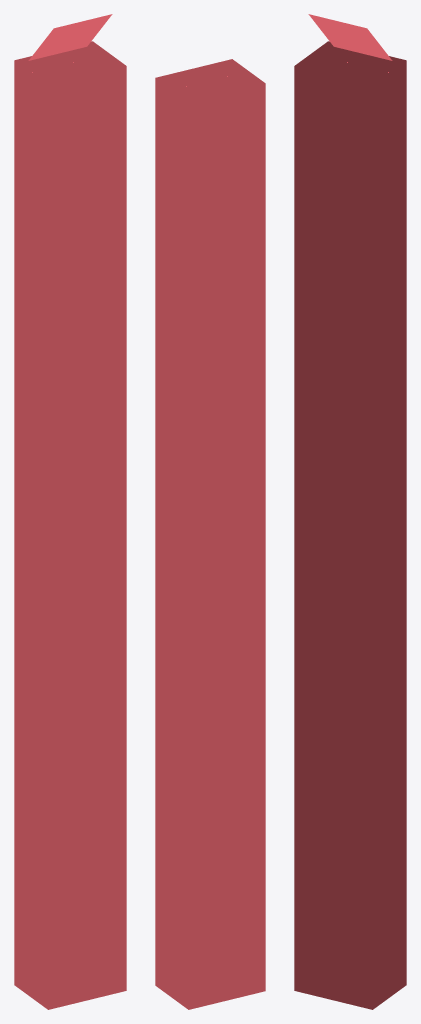
Rendered from trap_t5_laser_grid.glb.
3 renders of one model, left to right at view 1: azimuth 30°, elevation 25°; view 2: azimuth 210°, elevation 25°; view 3: azimuth 330°, elevation 25°, orthographic.
Visible parts, largest first — view 1: trap_t5_laser_grid; view 2: trap_t5_laser_grid; view 3: trap_t5_laser_grid.
Part boxes in pixels (bbox=[...]): trap_t5_laser_grid: bbox=[14, 14, 126, 1009]; trap_t5_laser_grid: bbox=[155, 59, 265, 1009]; trap_t5_laser_grid: bbox=[294, 14, 406, 1009].
Bounding box in the file's own units: 0.16 × 1.9 × 0.12.
